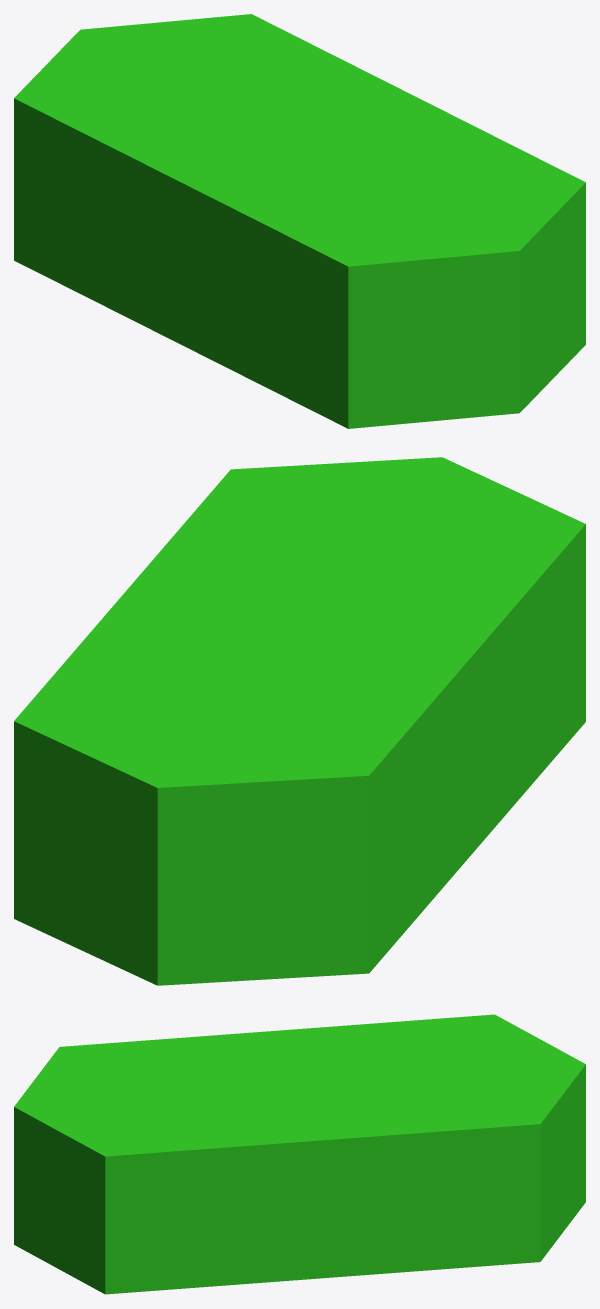
File: NormalContent.fbx
3 views of the same model, one above another, from view 1: azimuth 30°, elevation 25°; view 2: azimuth 150°, elevation 25°; view 3: azimuth 270°, elevation 25° (orthographic). The views are drawn at different scales.
Visible parts, largest first — view 1: Model; view 2: Model; view 3: Model.
Boxes of the visible parts, box(x1,y1,x2,y2) form: Model: box(14, 14, 585, 428); Model: box(14, 457, 585, 985); Model: box(14, 1014, 585, 1294).
Size of what is drawn, in the model's own units: 0.6807 by 0.308 by 1.16.
